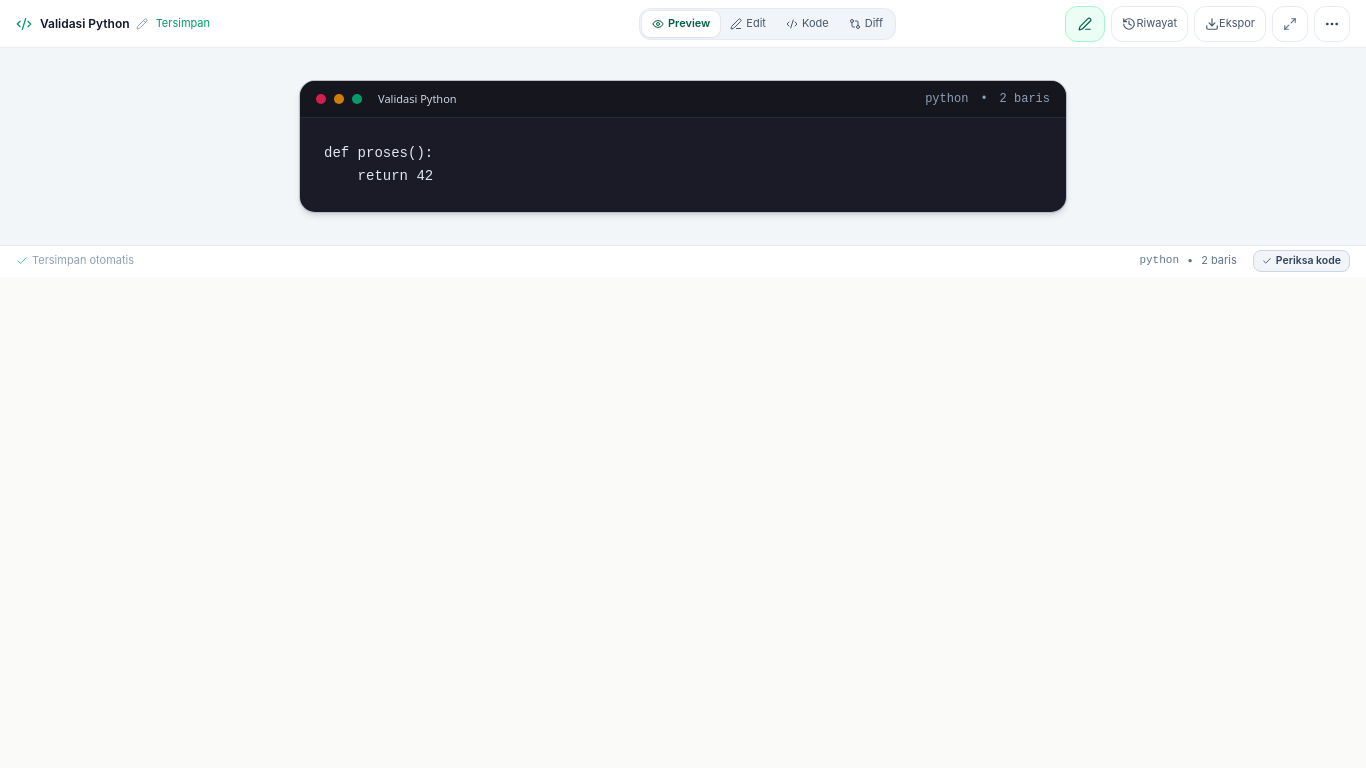
it: Workspace Canvas 2.0 UX & Behavior › provides honest static check on code artifacts without fake execution claims
This screenshot has width=1366, height=768.
Step 1. Click the button with aria-label "Periksa kode secara statis" → (1301, 261), box 1253,250 -> 1350,272
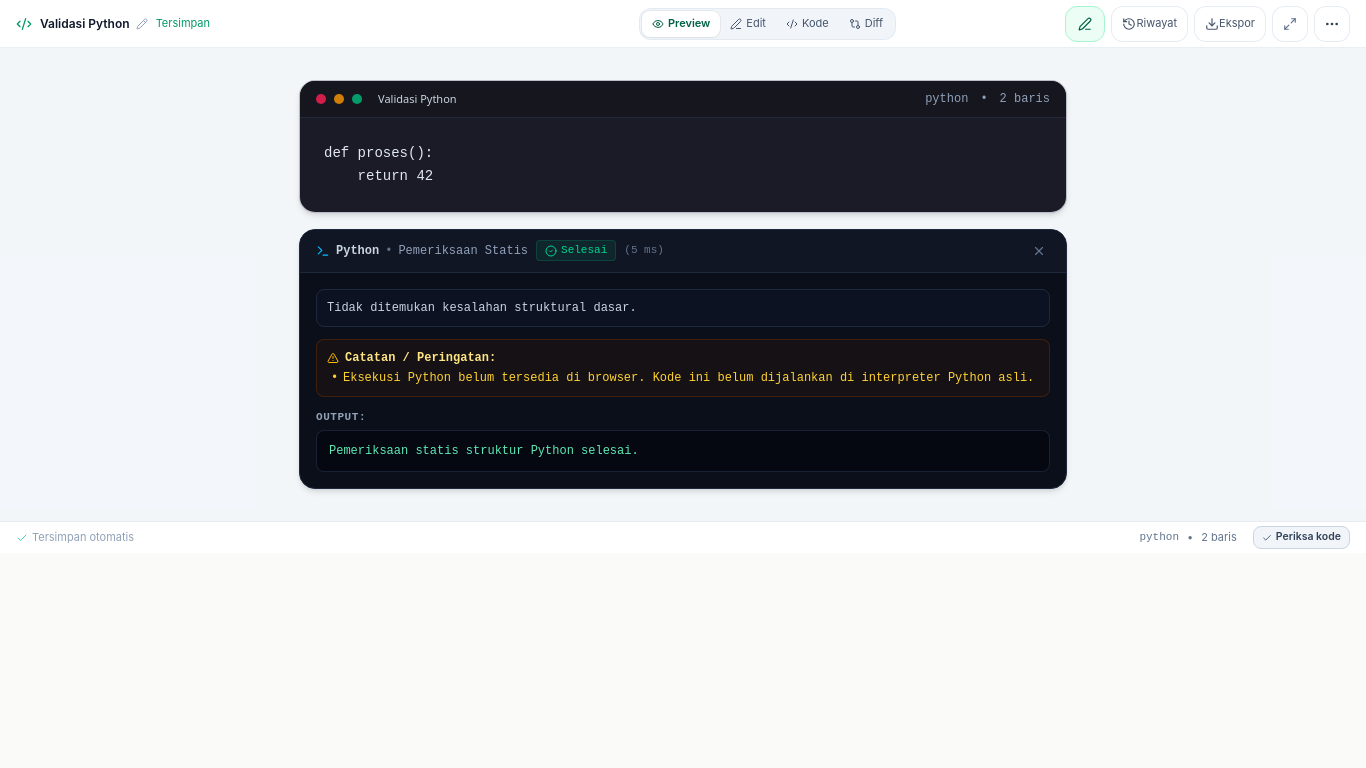
Now the element named "Panel Hasil Pemeriksaan Kode" is shown, box 299,228 -> 1067,489
Now the text "Eksekusi Python belum tersedia di browser" is shown, box 343,370 -> 1034,384
